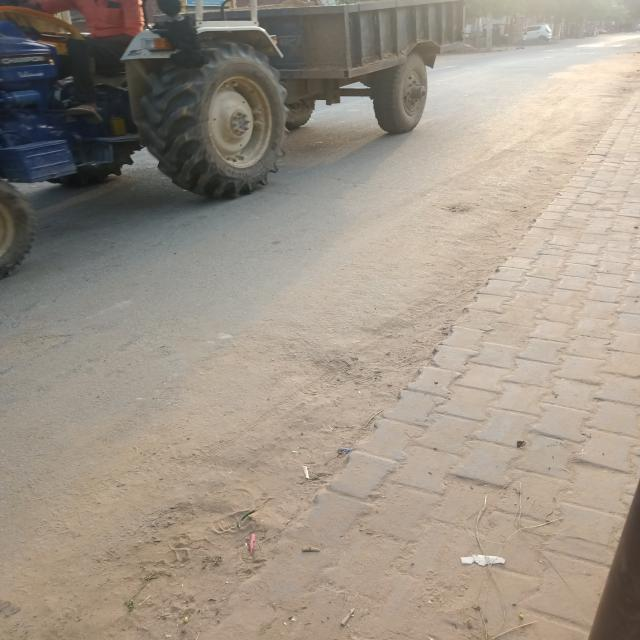Car: (514, 22, 553, 51)
tractor: (0, 0, 475, 281)
